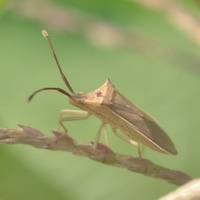insect: (28, 30, 176, 154)
